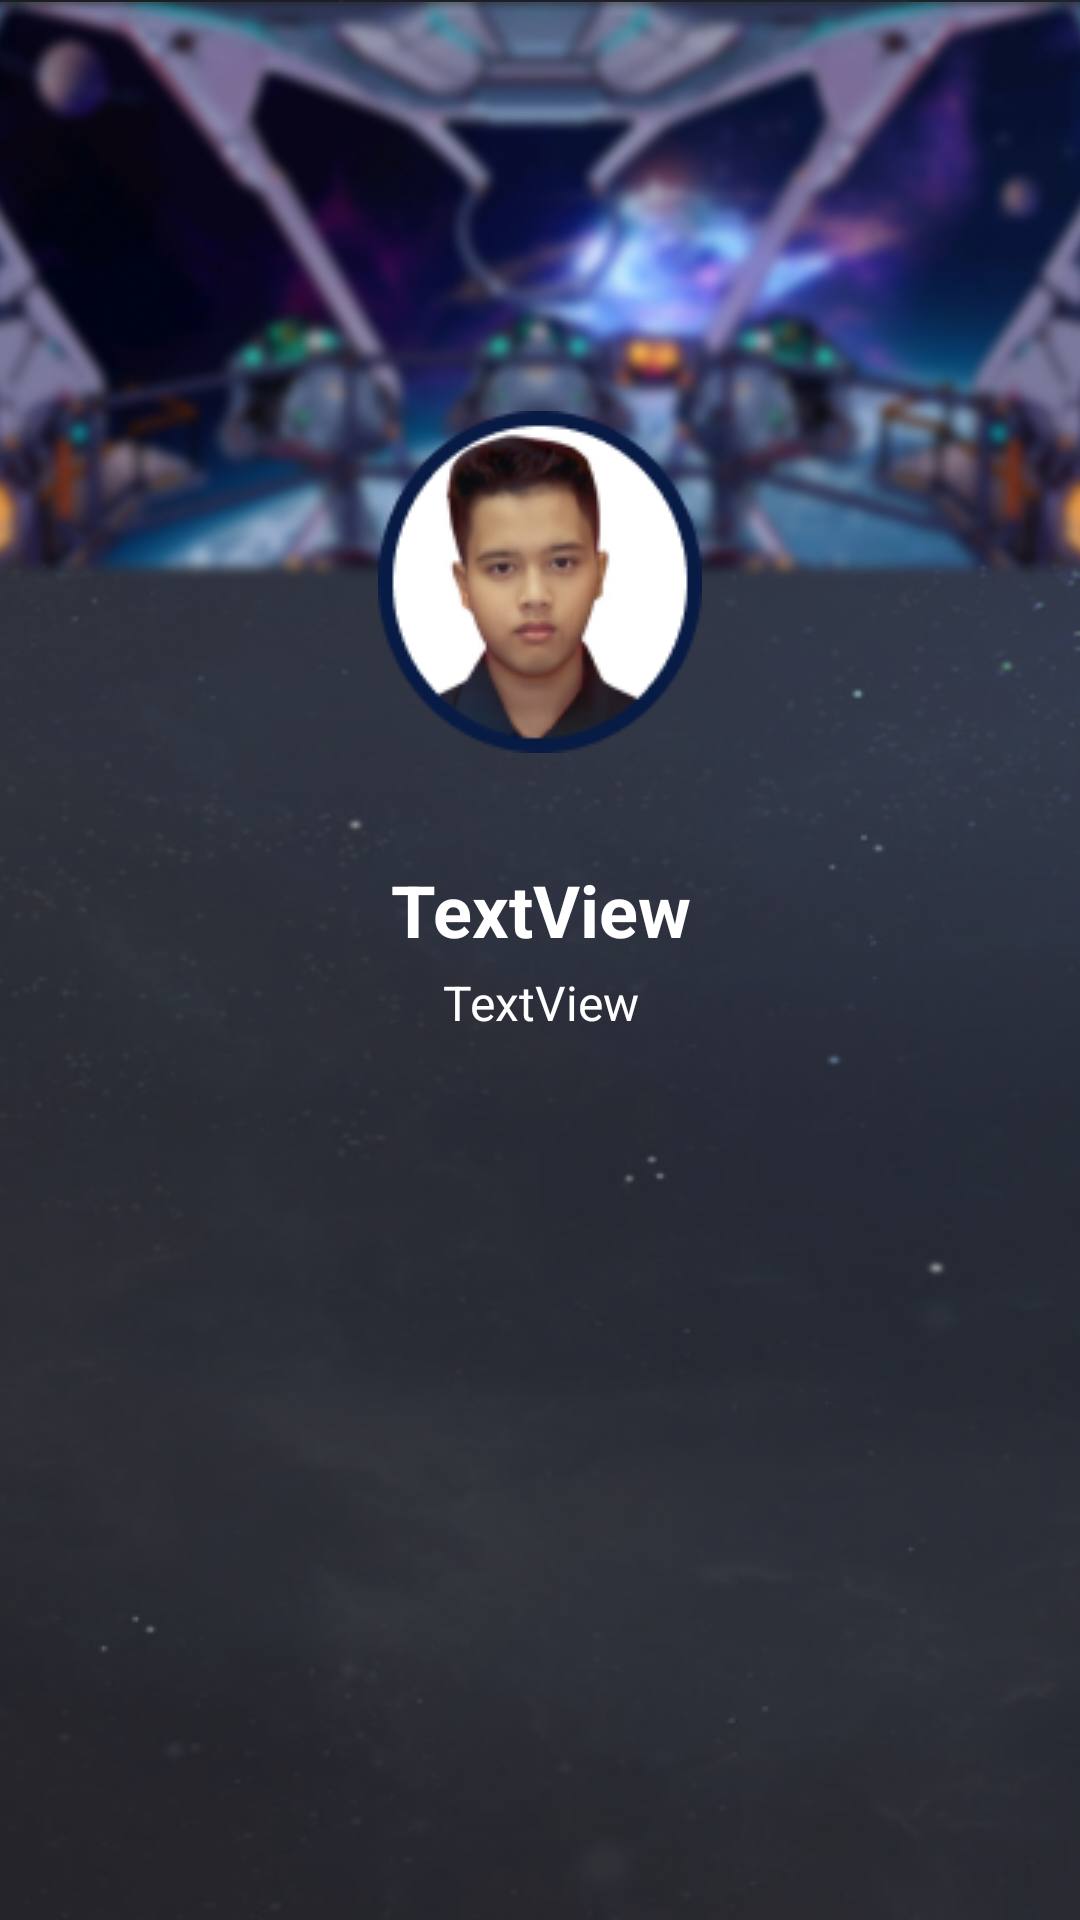

Named icons in this screenshot (1080 × 1920) and their bounding boxes, (x1, y1, x2, y2):
profile: (378, 411, 702, 753)
